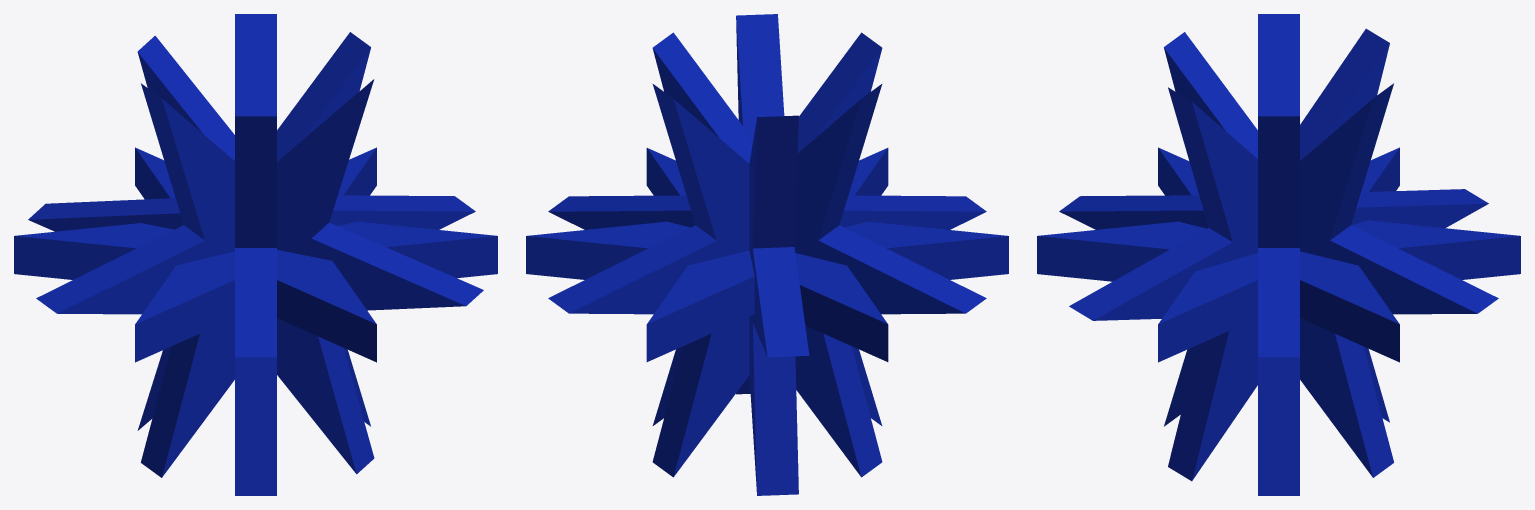
The model's file is Mapa09_Ice.FBX.
3 views of the same model, side by side, from view 1: azimuth 30°, elevation 25°; view 2: azimuth 150°, elevation 25°; view 3: azimuth 270°, elevation 25° (orthographic).
Visible parts, largest first — view 1: Ice_Mapa09; view 2: Ice_Mapa09; view 3: Ice_Mapa09.
Part boxes in pixels (x1,y1,x2,y2): Ice_Mapa09: (14,14,497,495); Ice_Mapa09: (526,14,1008,495); Ice_Mapa09: (1037,14,1520,495).
Bounding box in the file's own units: 35.62 × 30.85 × 35.62.
